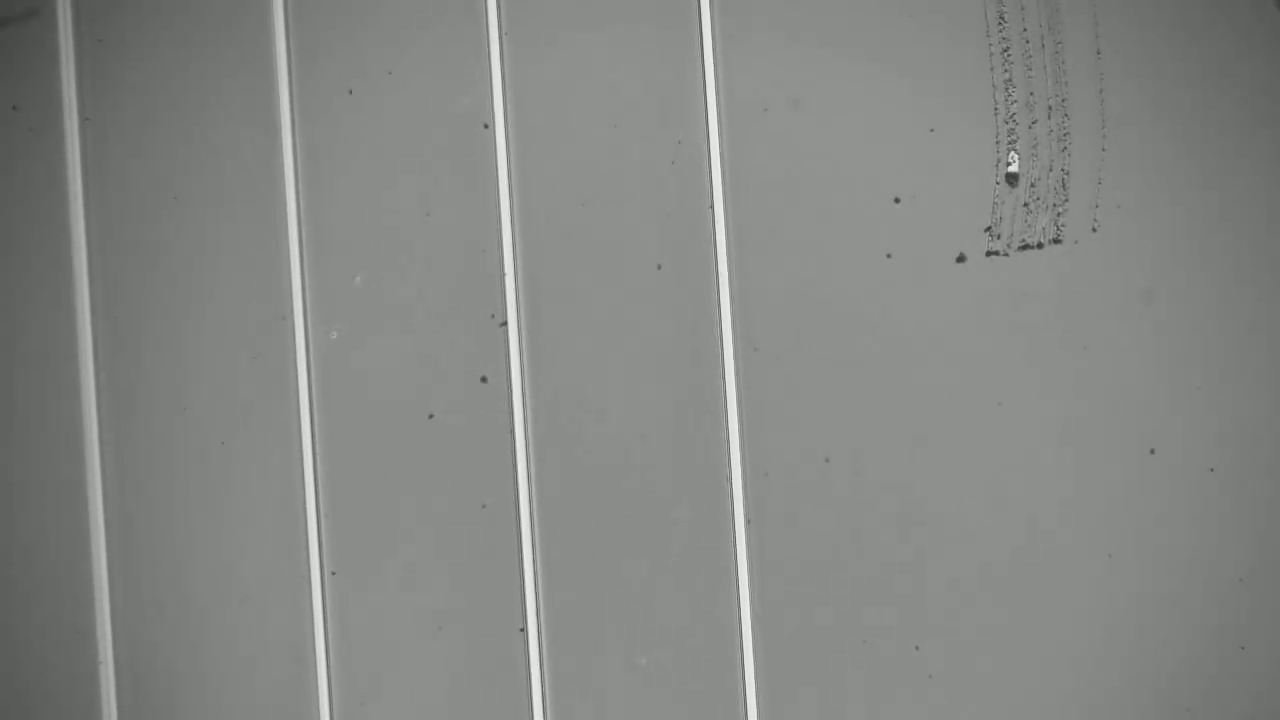scratch: (980, 1, 1123, 275)
